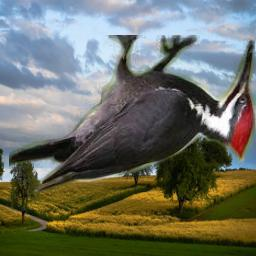Woodpecker: (9, 35, 255, 192)
